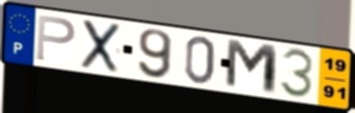0: (182, 34, 218, 86)
3: (277, 47, 316, 101)
9: (137, 28, 174, 81)
M: (223, 37, 280, 98)
P: (34, 13, 78, 64)
X: (79, 18, 123, 75)
